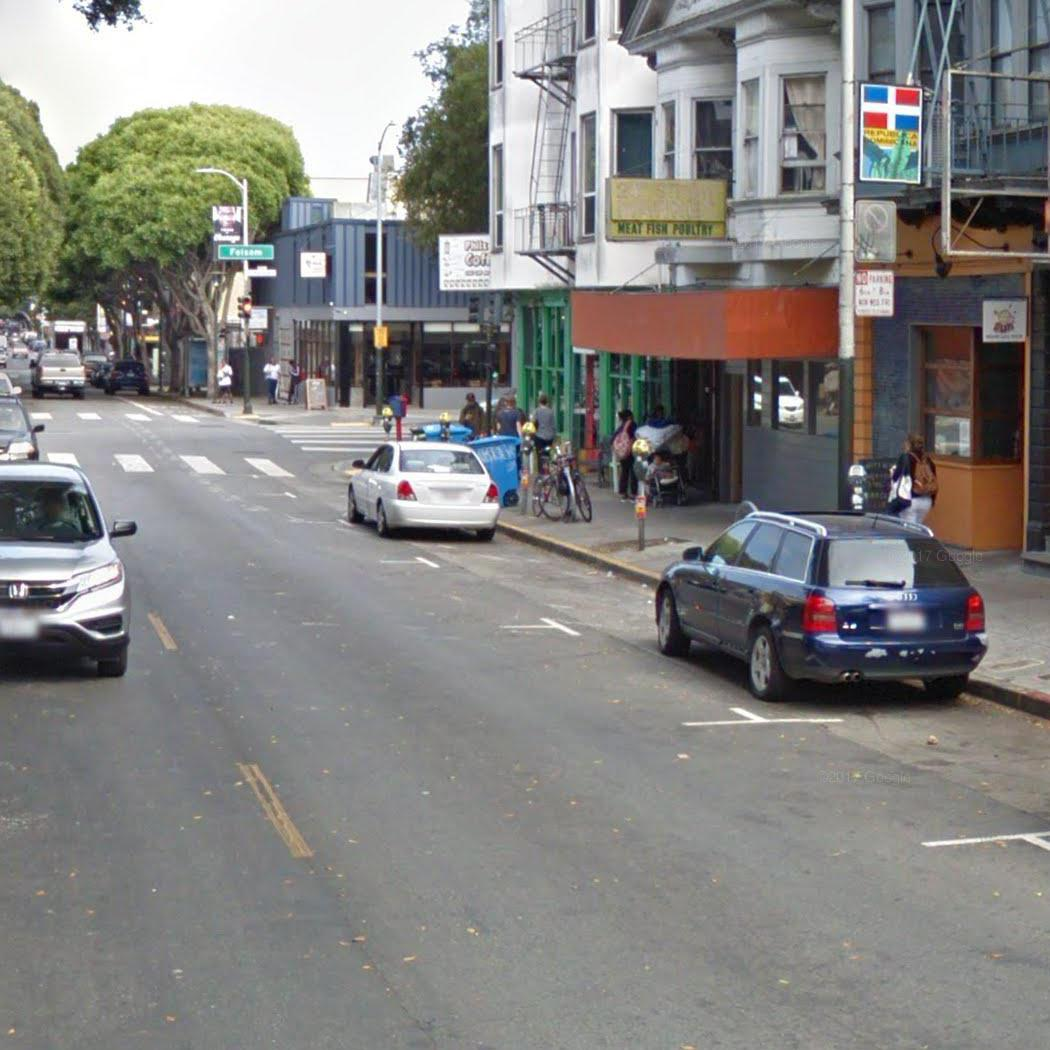No Parking: (852, 269, 896, 319)
